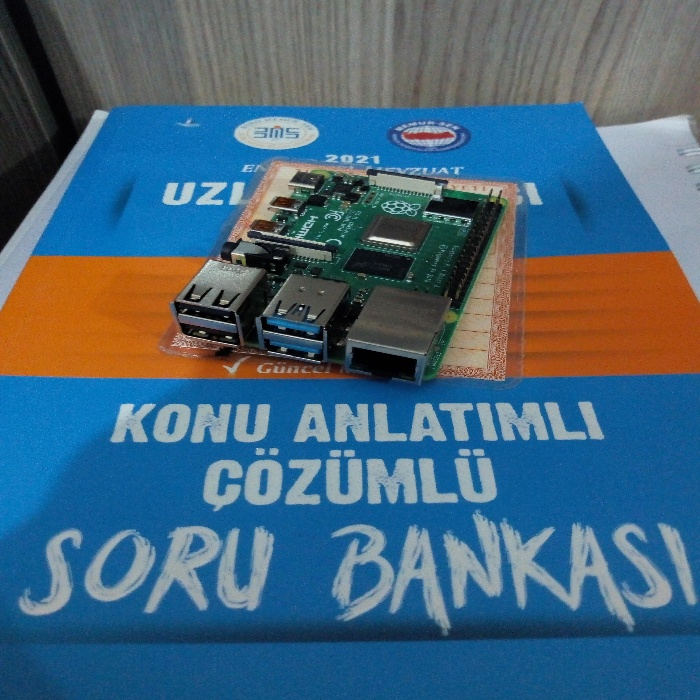raspberry: (170, 138, 533, 397)
